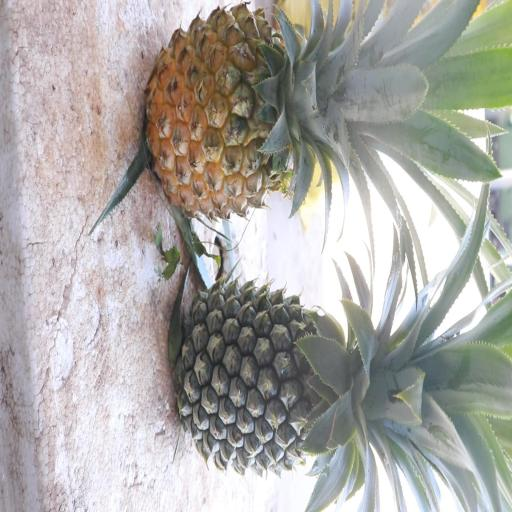Pineapple - v8 v1: (146, 0, 433, 224)
